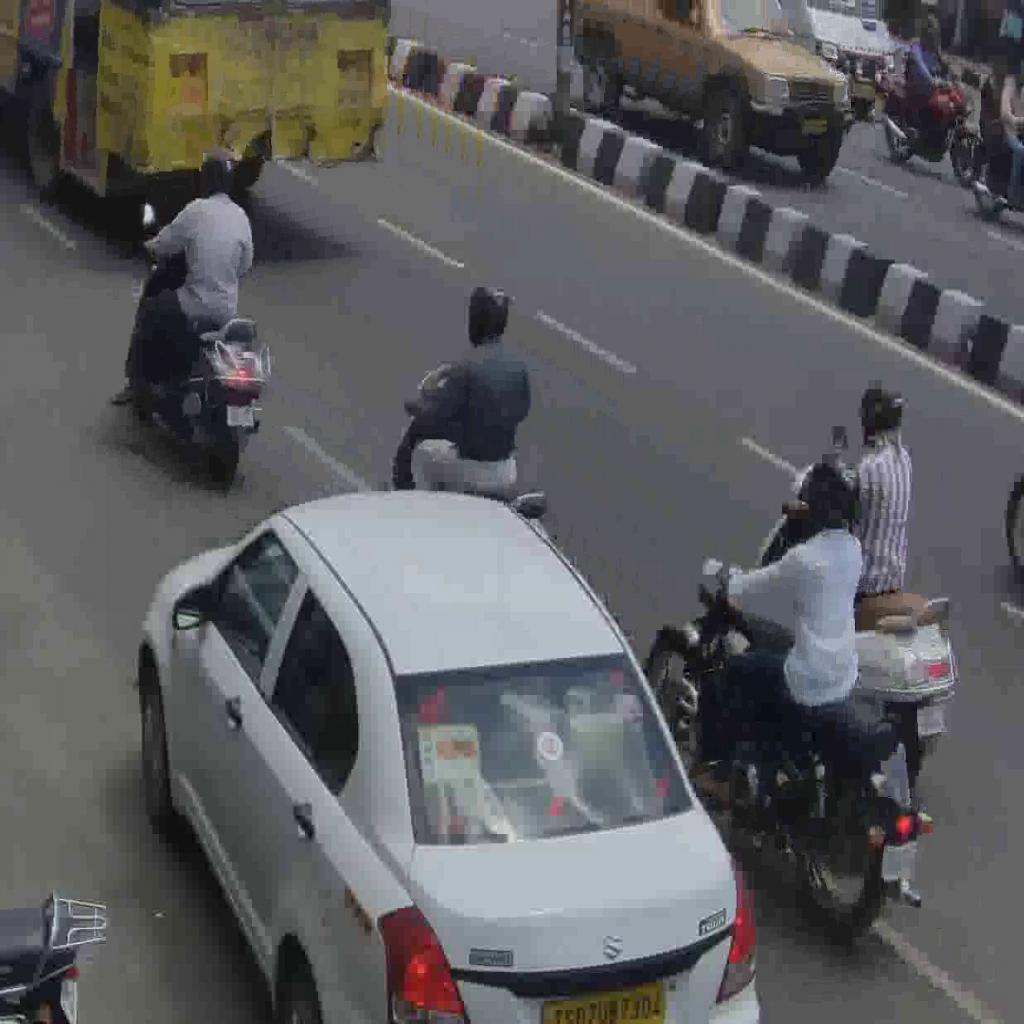helmet: (643, 559, 934, 936), (753, 450, 963, 788), (124, 210, 272, 489), (390, 360, 552, 537)
